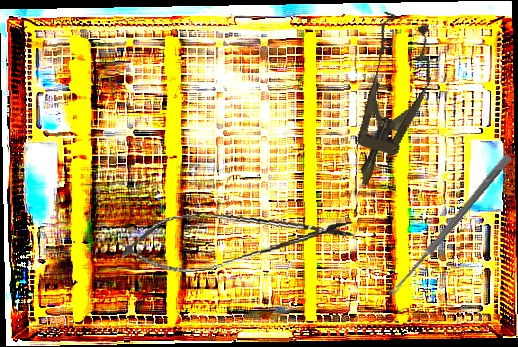Micro Scissor: (115, 197, 358, 280)
Speculum: (333, 11, 446, 194)
Surgical Spoon: (388, 152, 512, 299)
